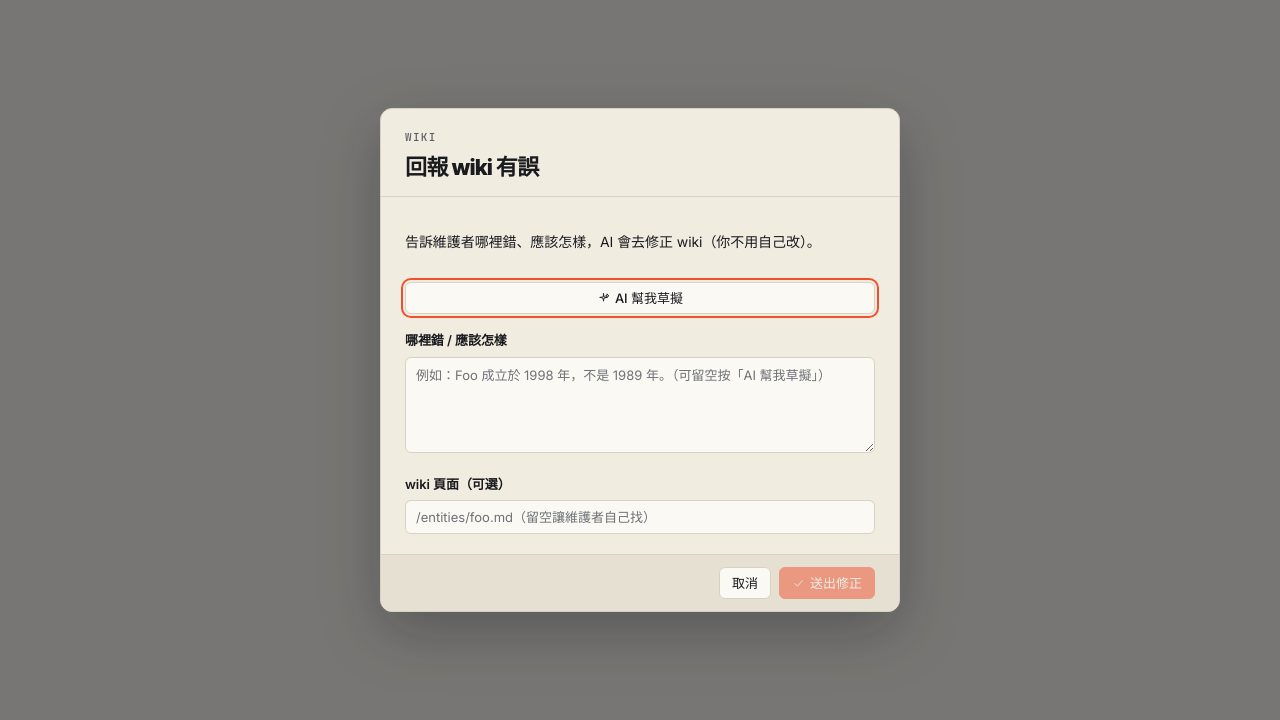
Test case: WikiCorrectionDialog (#397) › submit sends the edited instruction + target and shows a confirmation
Type "Founded 1998." into the text box with placeholder "例如：Foo 成立於 1998 年，不是 1989 年。（可留空按「AI 幫我草擬」）" at (640, 405), box 405,357 -> 875,453
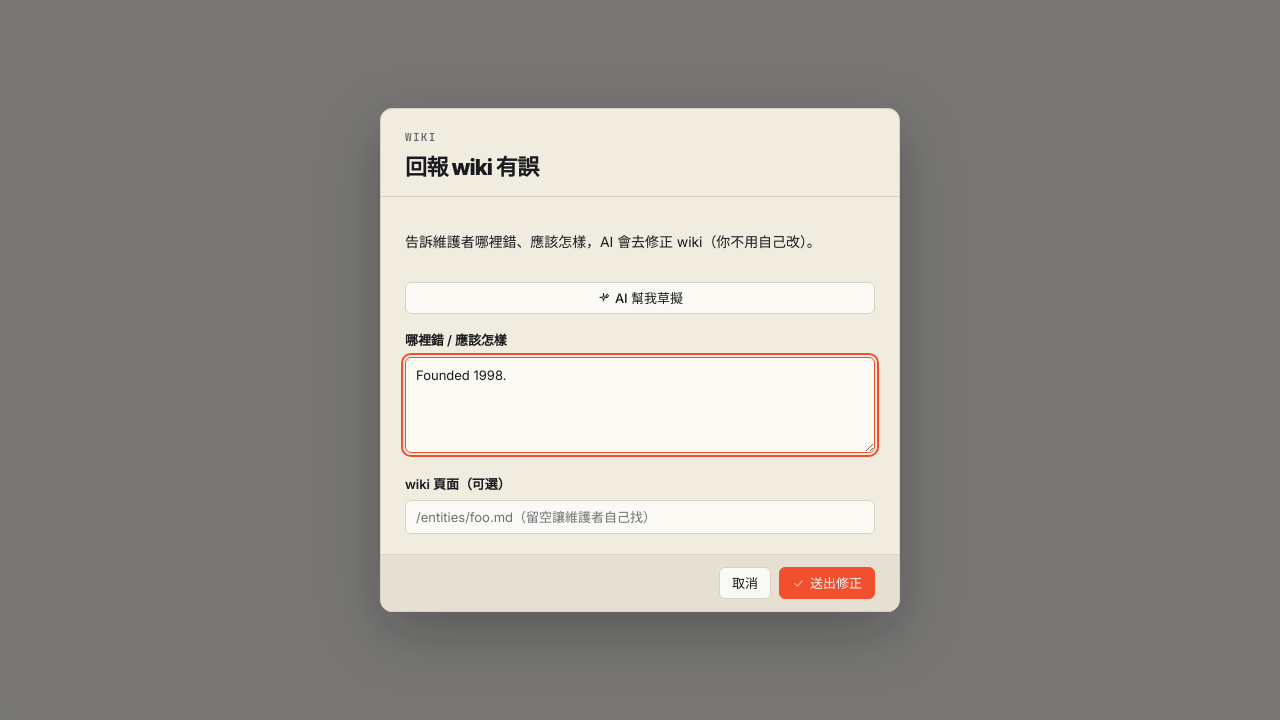
Type "/entities/foo.md" into the field with placeholder "/entities/foo.md（留空讓維護者自己找）" at (640, 517), box 405,500 -> 875,534
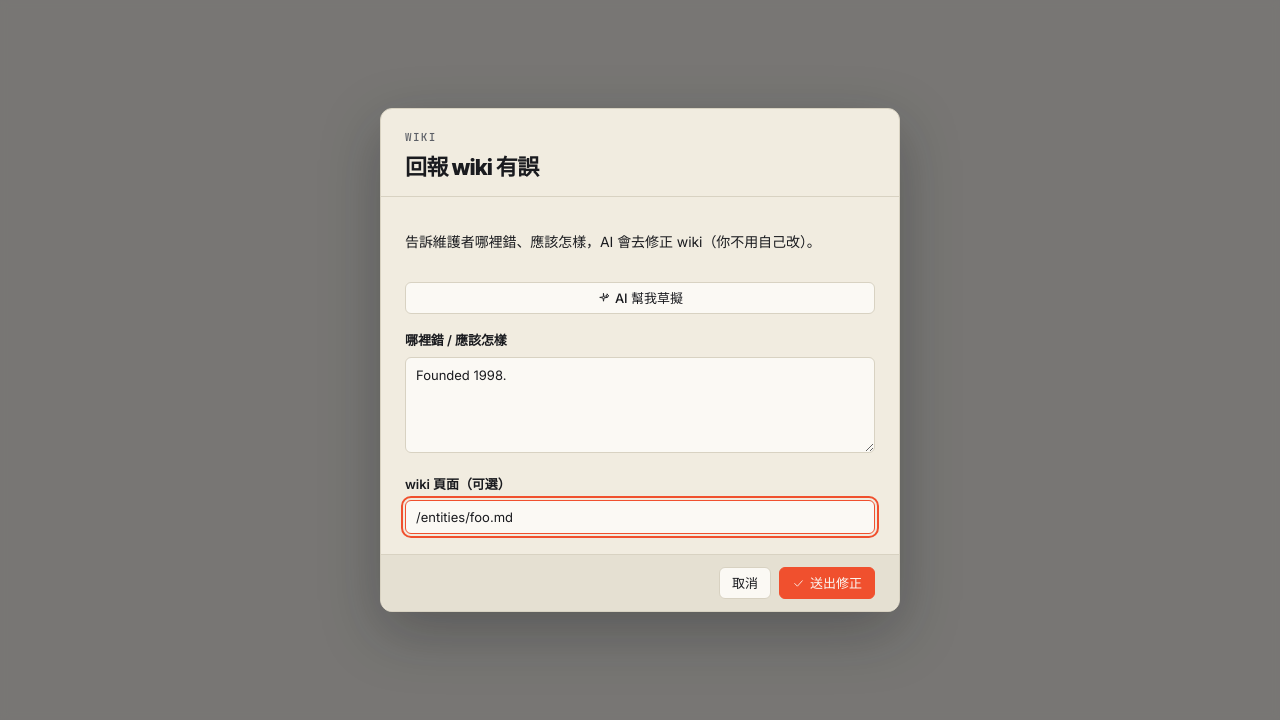
Click the button "送出修正" at (827, 583), box 779,567 -> 875,599
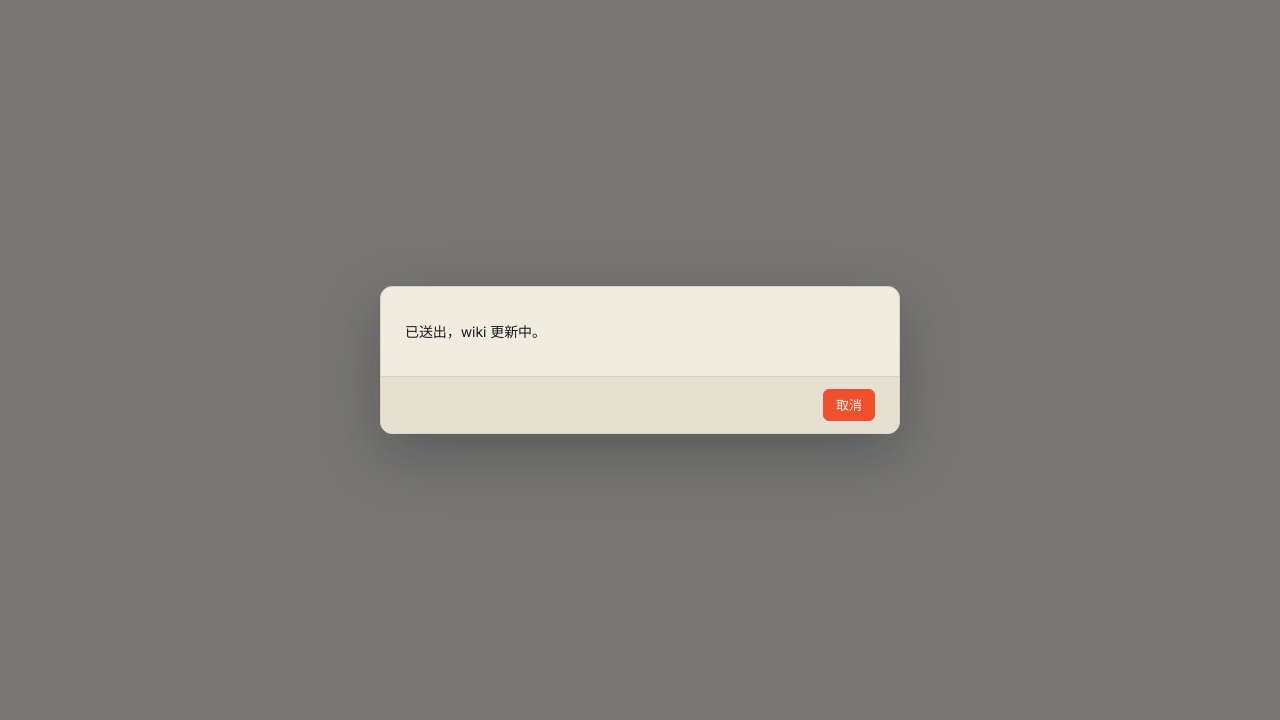
Check: the text "已送出，wiki 更新中。" is shown, box 405,323 -> 546,340
